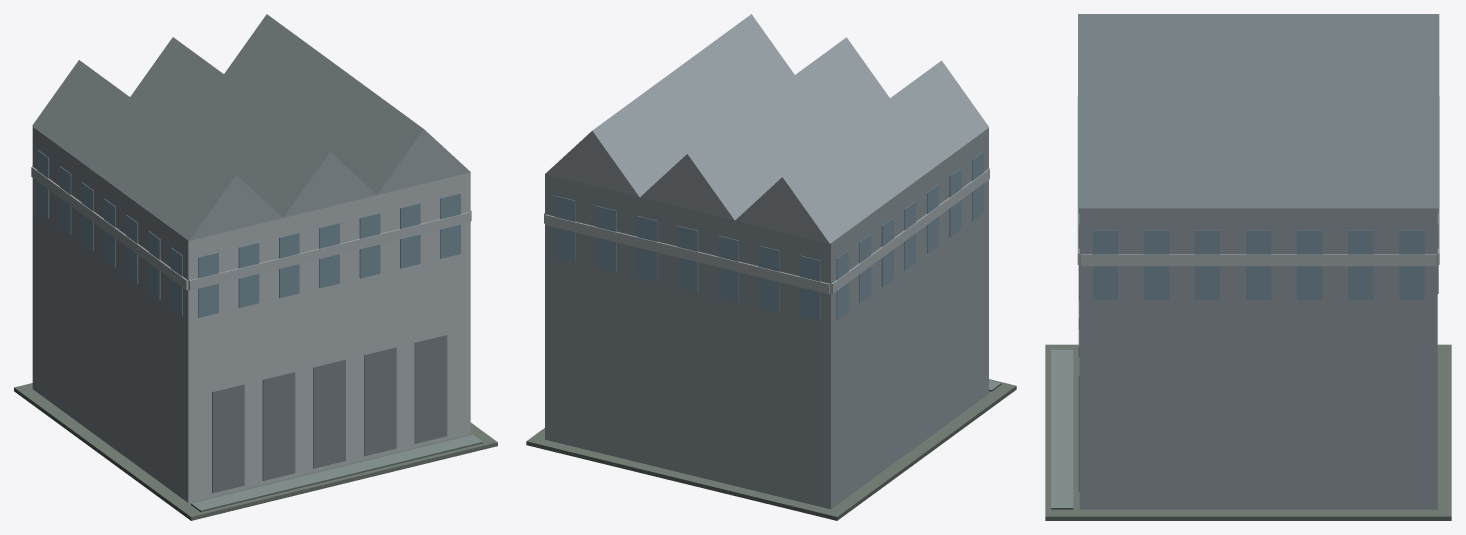
File: industrial-sheds.glb
3 views of the same model, side by side, from view 1: azimuth 30°, elevation 25°; view 2: azimuth 150°, elevation 25°; view 3: azimuth 270°, elevation 25° (orthographic). The views are drawn at different scales.
Visible parts, largest first — view 1: industrial-sheds; view 2: industrial-sheds; view 3: industrial-sheds.
Boxes of the visible parts, left/top/right/bottom form: industrial-sheds: left=14, top=14, right=497, bottom=520; industrial-sheds: left=526, top=14, right=1016, bottom=520; industrial-sheds: left=1045, top=14, right=1451, bottom=520.
Size of the model in its own units: 1 by 1 by 1.
